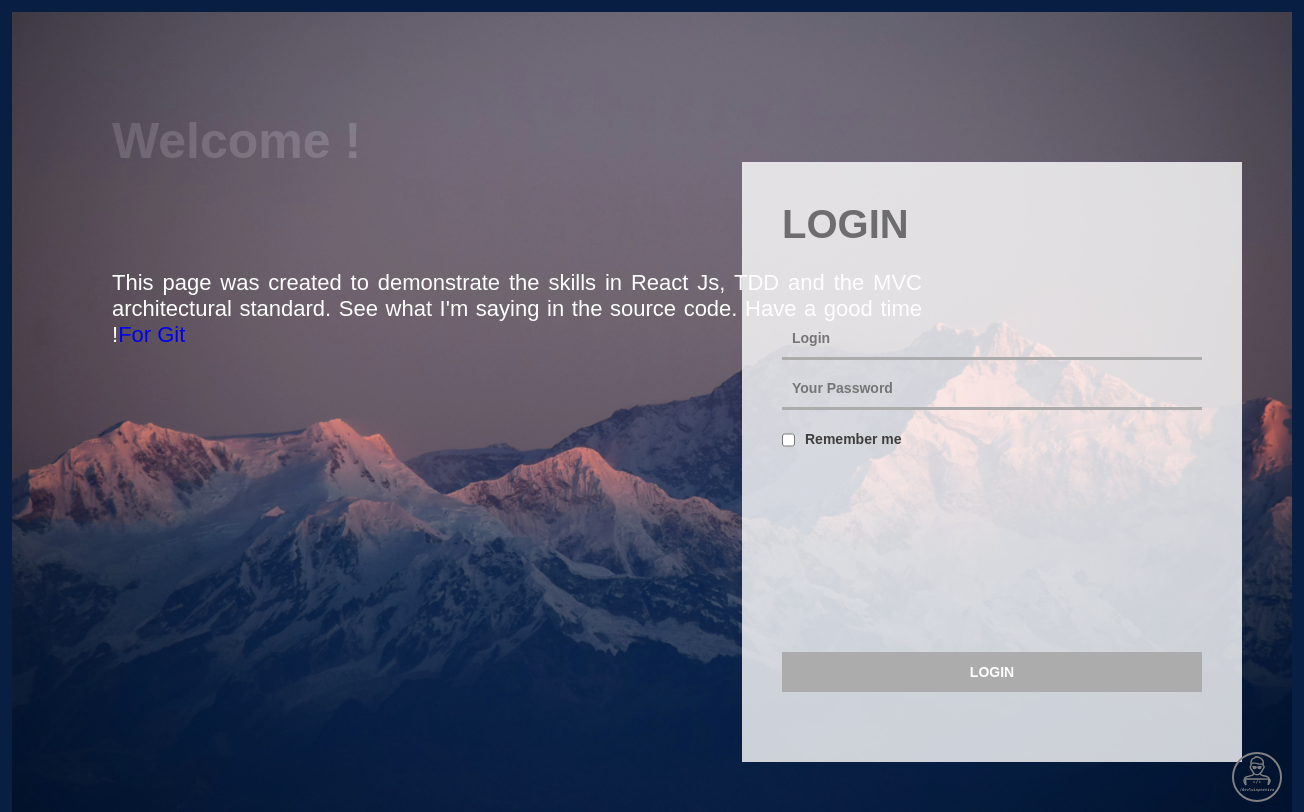
Scenario: Test page Login › Test Button › should test click event Button
What coordinates should you click on to do the following:
click the button with test id "form-submit-Button"
I would click on:
 (992, 672)
Its box is [782, 652, 1202, 692].
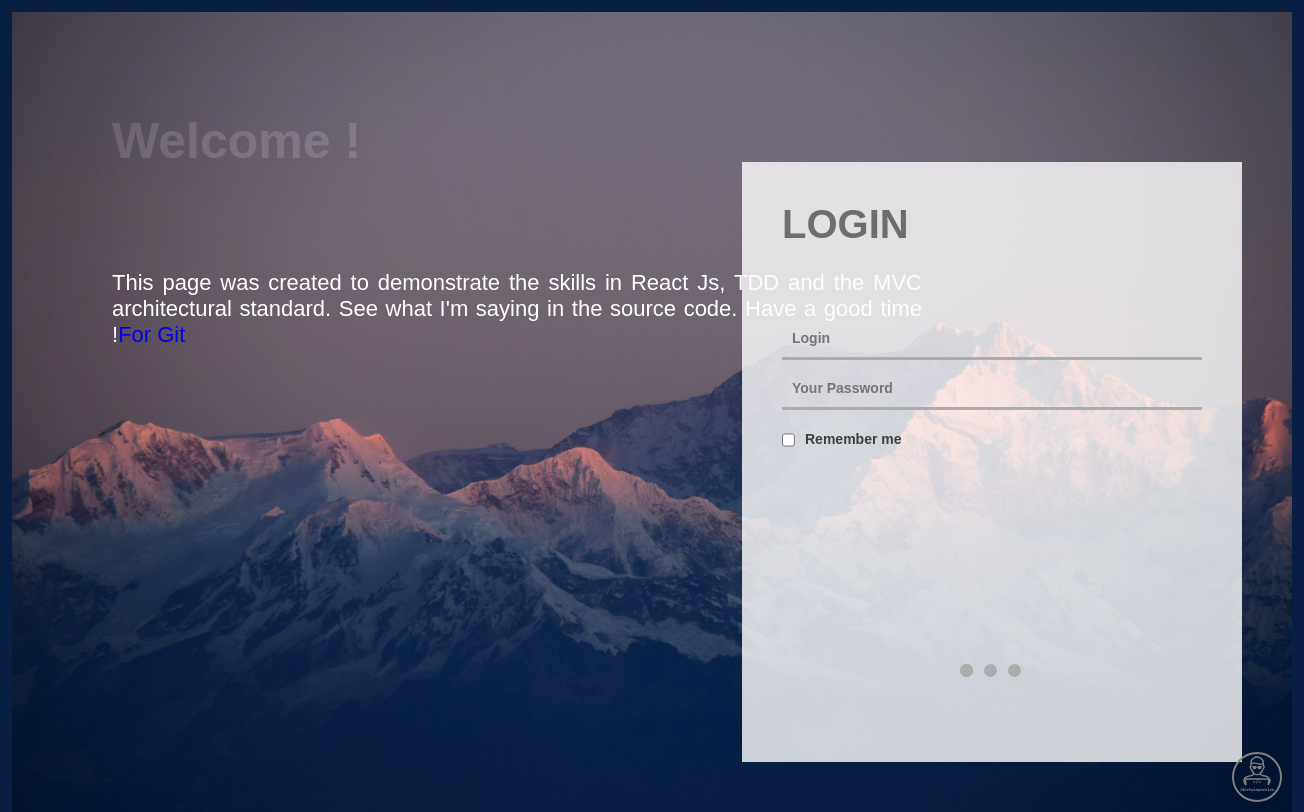
Now the element with test id "elipse" is shown, box [960, 664, 1021, 676]
